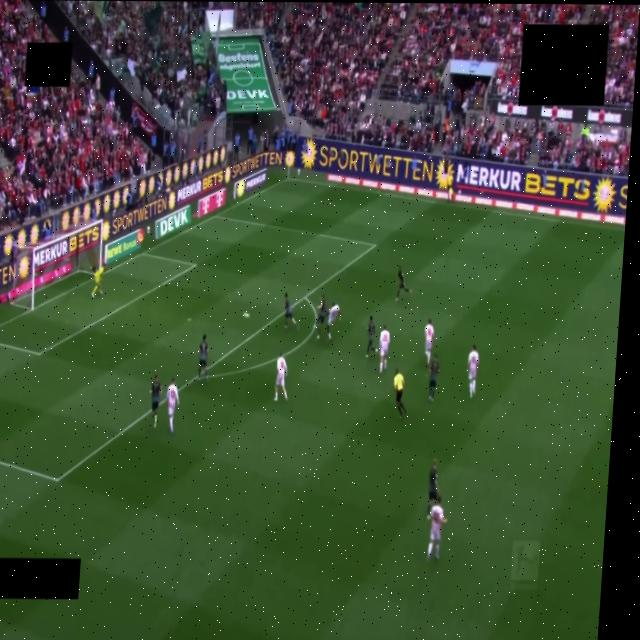player: (427, 496, 447, 559), (427, 459, 439, 519), (166, 378, 179, 433), (274, 354, 287, 401), (314, 295, 327, 339), (468, 345, 479, 397), (395, 266, 411, 300), (151, 374, 161, 427), (379, 325, 390, 373), (284, 292, 298, 329), (428, 355, 439, 401), (366, 316, 378, 357), (327, 303, 340, 340), (198, 335, 208, 381), (425, 319, 434, 365), (91, 266, 104, 297)
referee: (393, 369, 406, 418)
